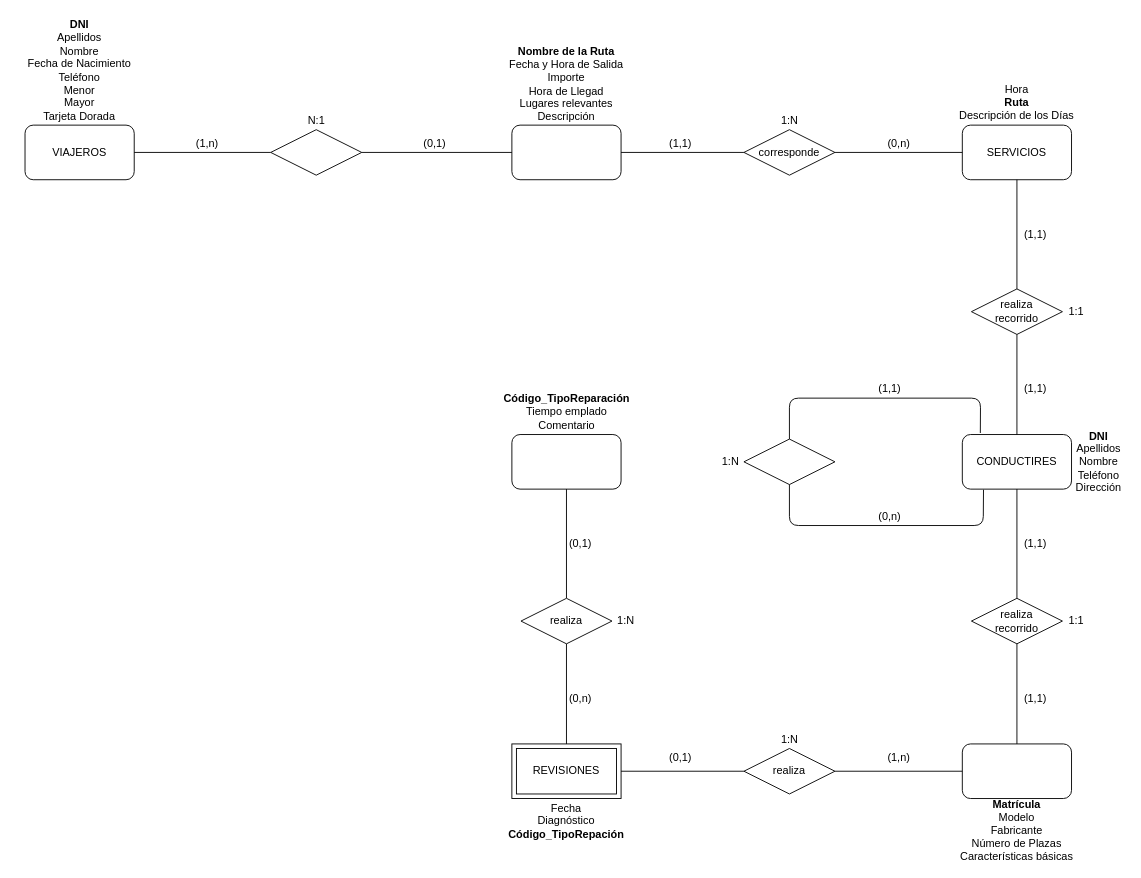
Some shapes in this 1141 by 878 pixel diagram are drawn without their labels. Here are the shapes that lost their labels. From the top down, the centre of each, then its label:
pixel 316 152: recibe
pixel 566 152: BILLETES
pixel 566 461: REPARACIONES
pixel 789 461: supervisa
pixel 1016 771: AUTOBUSES
